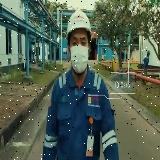Helmet: (66, 8, 92, 39)
